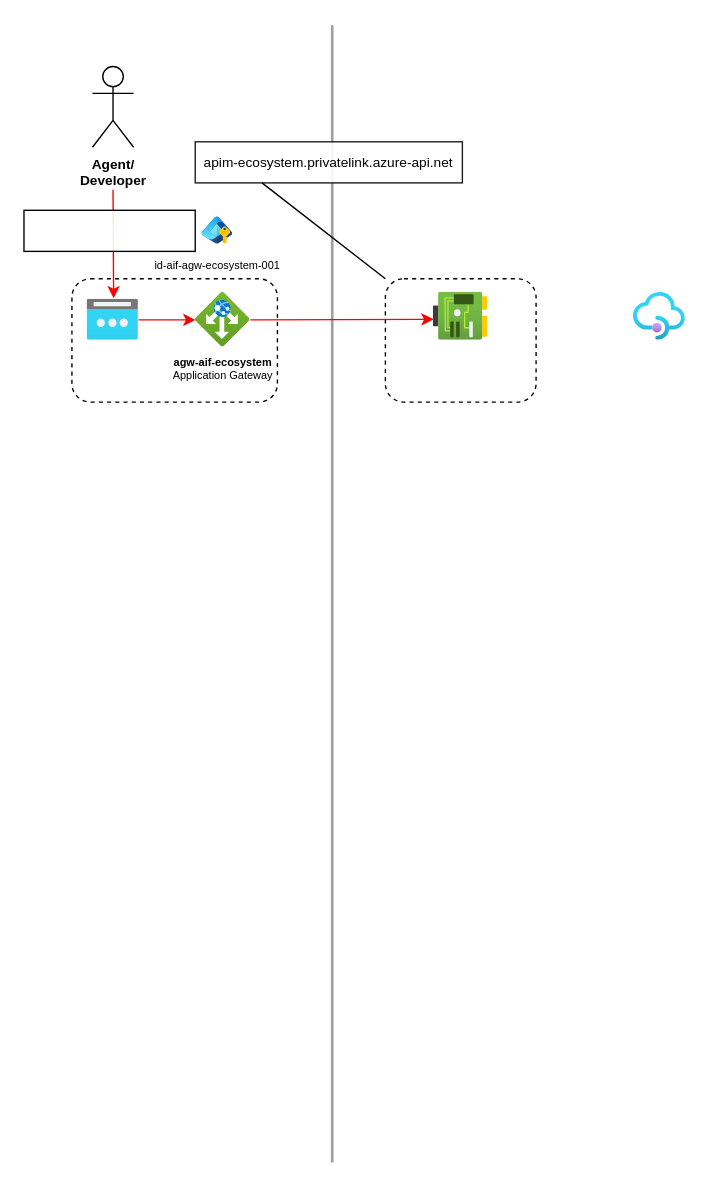
The diagram is 726 pixels wide and 1188 high, and some of its shapes have lost their labels. The centre of each missing label's shape, as x and y in pixels:
apim-ecosystem: the point at 659,316
pep-api-management-nic 10.0.1.4: the point at 460,316
pip 20.120.88.8: the point at 112,319
